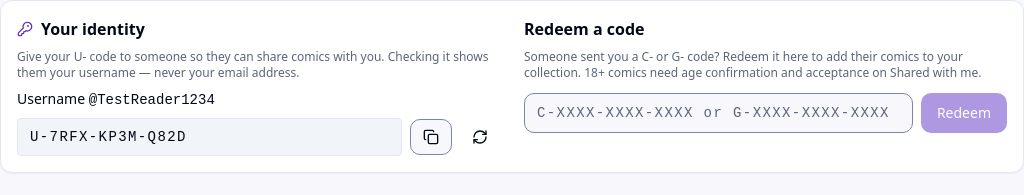
Scenario: SharingCodesCard › explains a code that cannot be redeemed without clearing what was typed
Type "C7RFXKP3MQ82D" into the field with placeholder "C-XXXX-XXXX-XXXX or G-XXXX-XXXX-XXXX" at point(718, 113), box [524, 93, 913, 133]
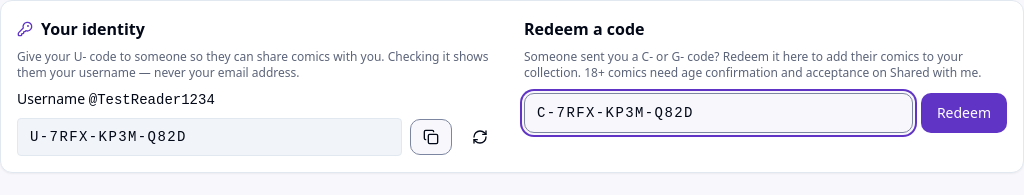
Click the button "Redeem" at point(964, 113), box [921, 93, 1007, 133]
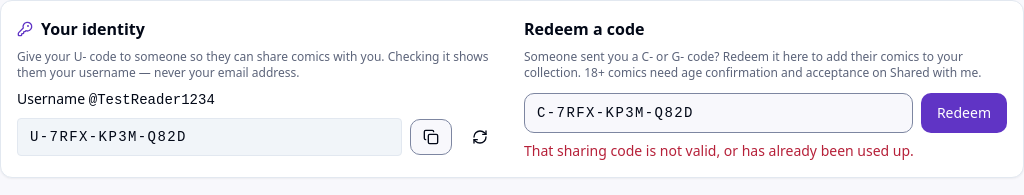
expect the field with placeholder "C-XXXX-XXXX-XXXX or G-XXXX-XXXX-XXXX" holds "C-7RFX-KP3M-Q82D": met, box [524, 93, 913, 133]
expect the text "That sharing code is not valid, or has already been used up." is shown: met, box [524, 141, 914, 160]
